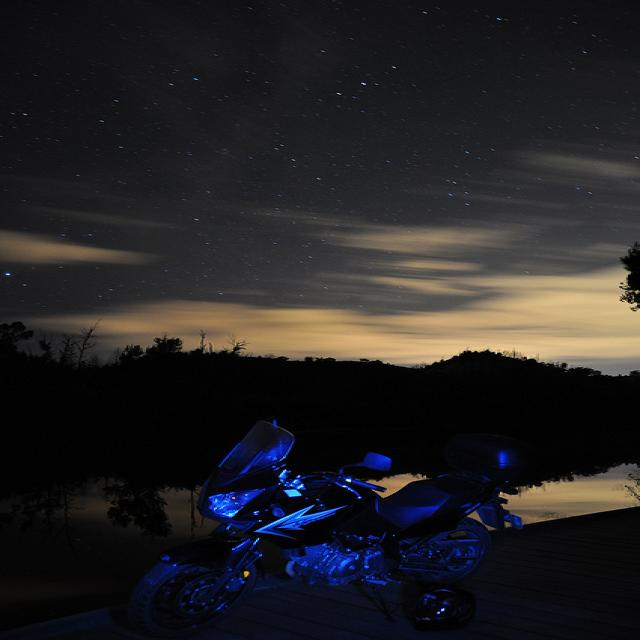Motorbike: (132, 417, 526, 640)
